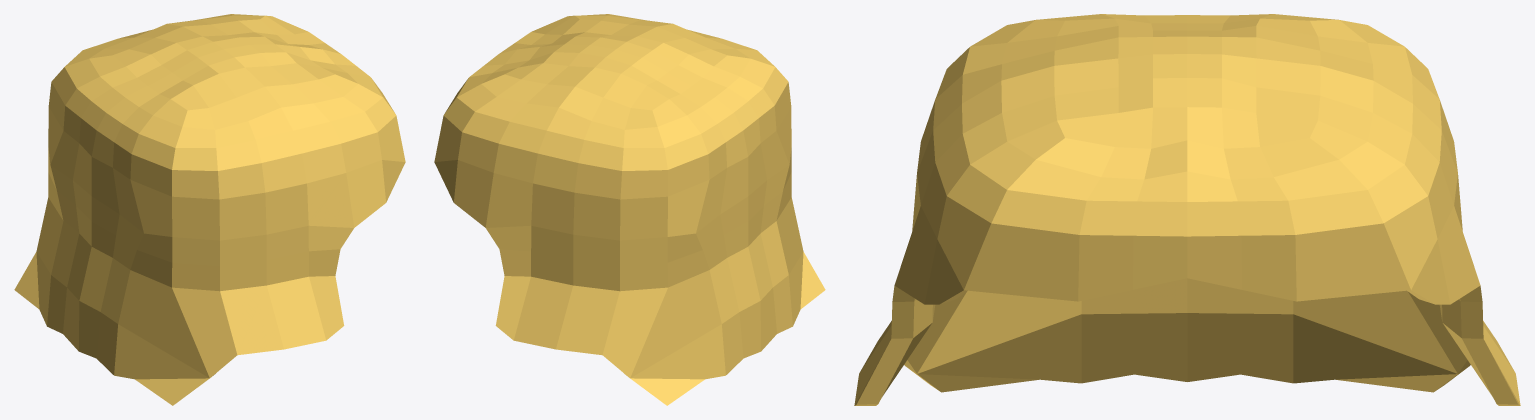
The model's file is cabelo2.fbx.
3 views of the same model, side by side, from view 1: azimuth 30°, elevation 25°; view 2: azimuth 150°, elevation 25°; view 3: azimuth 270°, elevation 25° (orthographic). The views are drawn at different scales.
Visible parts, largest first — view 1: Cube.010; view 2: Cube.010; view 3: Cube.010.
Boxes of the visible parts, <box> form: Cube.010: <box>14,14,405,405</box>; Cube.010: <box>434,14,825,405</box>; Cube.010: <box>854,14,1520,405</box>.
Size of the model in its own units: 234 by 218 by 303.
